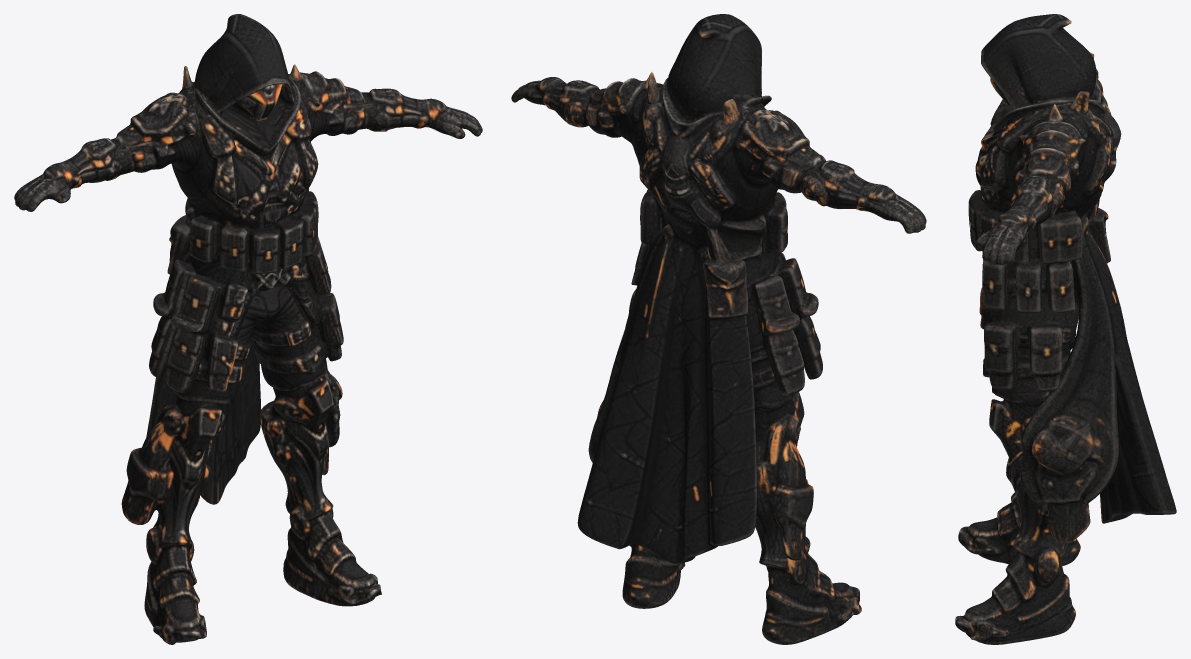
Rendered from Ficha de Referência da Armadura Orion - NIVEL 2 3D.glb.
The picture shows the model from 3 angles, left to right: view 1: azimuth 30°, elevation 25°; view 2: azimuth 150°, elevation 25°; view 3: azimuth 270°, elevation 25°; orthographic projection. The views are drawn at different scales.
Bounding box in the file's own units: 1.47 × 1.9 × 0.6532.
1 material, 1 textured.
